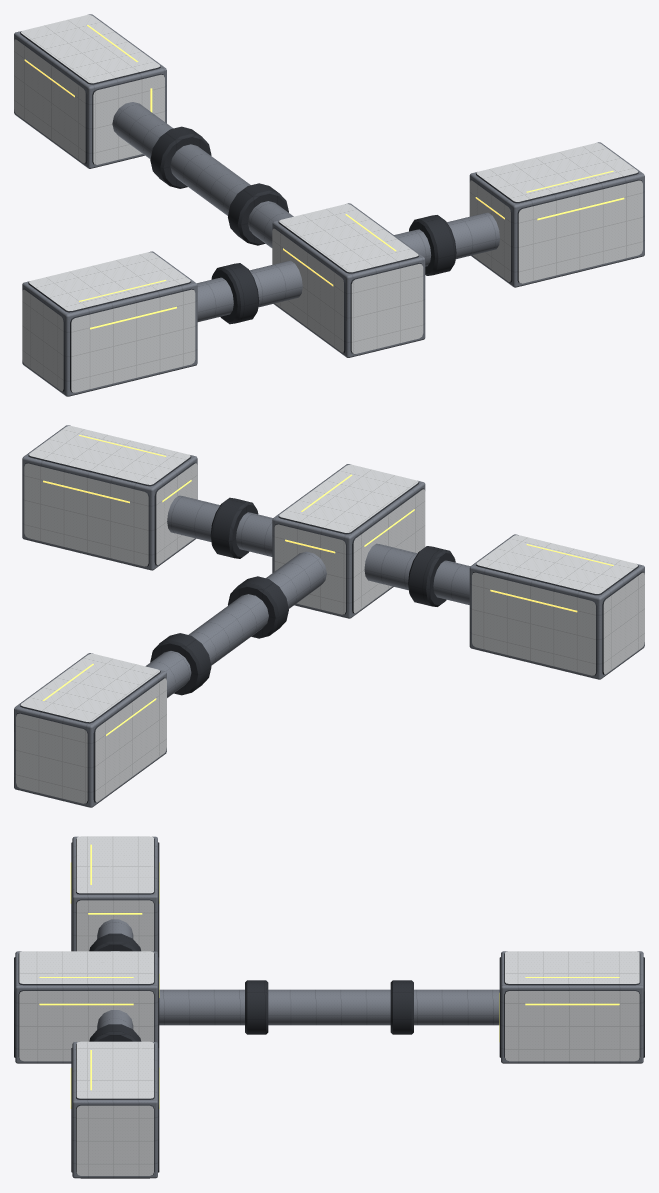
The model's file is R4C_ROD_T.glb.
3 renders of one model, top to bottom at view 1: azimuth 30°, elevation 25°; view 2: azimuth 150°, elevation 25°; view 3: azimuth 270°, elevation 25°, orthographic. The views are drawn at different scales.
Parts seen in each view (by area): view 1: R4C_ROD_T; view 2: R4C_ROD_T; view 3: R4C_ROD_T.
Part boxes in pixels (x1,y1,x2,y2): R4C_ROD_T: (14,14,644,396); R4C_ROD_T: (14,425,644,807); R4C_ROD_T: (14,836,644,1178).
Size of the model in its own units: 1.62 by 0.2284 by 1.62.
4 materials, 3 textured.
